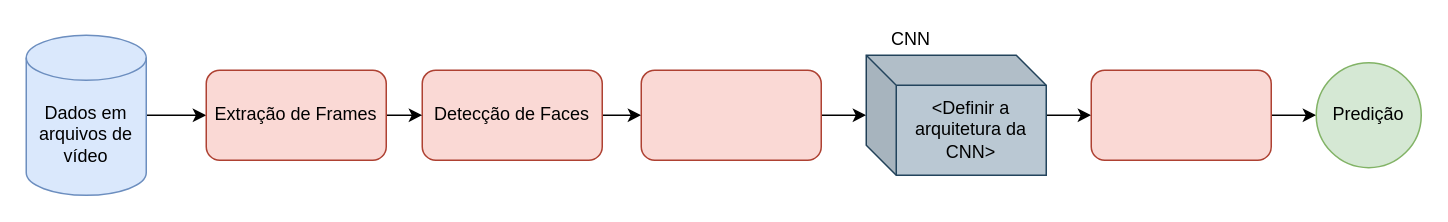
The diagram is 1448 pixels wide and 222 high, and some of its shapes have lost their labels. Each missing label, with the centre of its shape:
"Sistema de pontuação" belongs at [1180,114].
"Tratamento das Imagens" belongs at [730,114].
